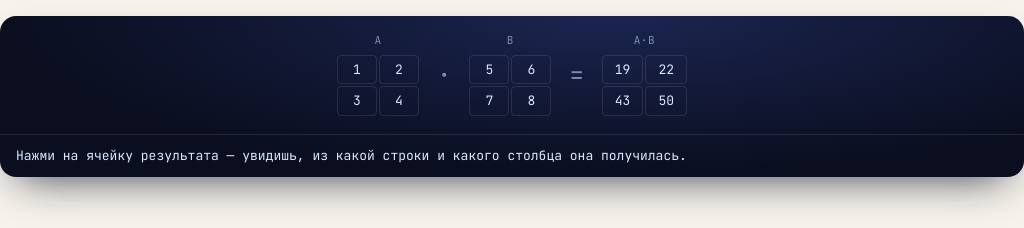
Scenario: MatMulExplorer › multiplies and explains a clicked cell as row · column
This screenshot has width=1024, height=228.
Expected: the button named "строка 2, столбец 1: 43" is shown, x1=611 y1=91 x2=634 y2=110
Click the button named "строка 1, столбец 2: 22": (666, 69) x1=654 y1=60 x2=678 y2=79
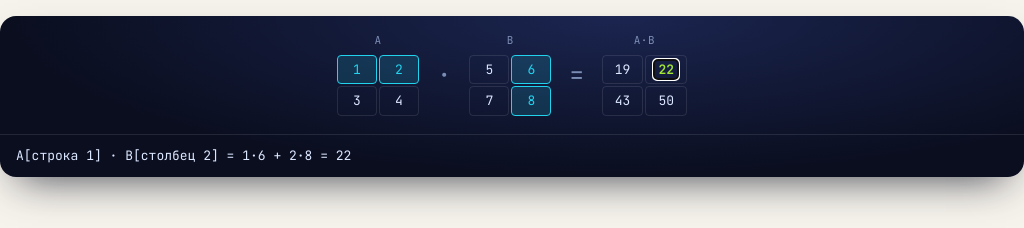
Now the message reads "A[строка 1] · B[столбец 2] = 1·6 + 2·8 = 22", box x1=16 y1=146 x2=351 y2=164
